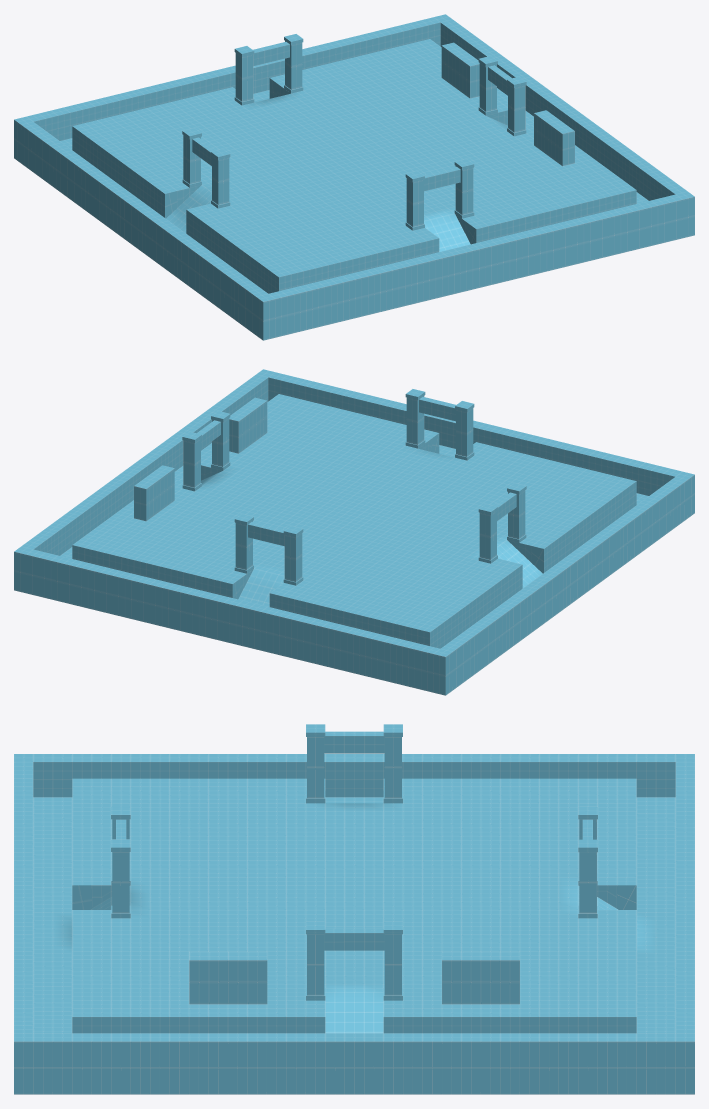
The picture shows the model from 3 angles, top to bottom: view 1: azimuth 30°, elevation 25°; view 2: azimuth 150°, elevation 25°; view 3: azimuth 270°, elevation 25°; orthographic projection. The views are drawn at different scales.
Parts seen in each view (by area): view 1: scene_02; view 2: scene_02; view 3: scene_02.
Boxes of the visible parts, bbox=[...] form: scene_02: bbox=[14, 14, 694, 340]; scene_02: bbox=[14, 369, 694, 695]; scene_02: bbox=[14, 724, 694, 1094].
Size of the model in its own units: 52.5 by 10.5 by 52.5.
